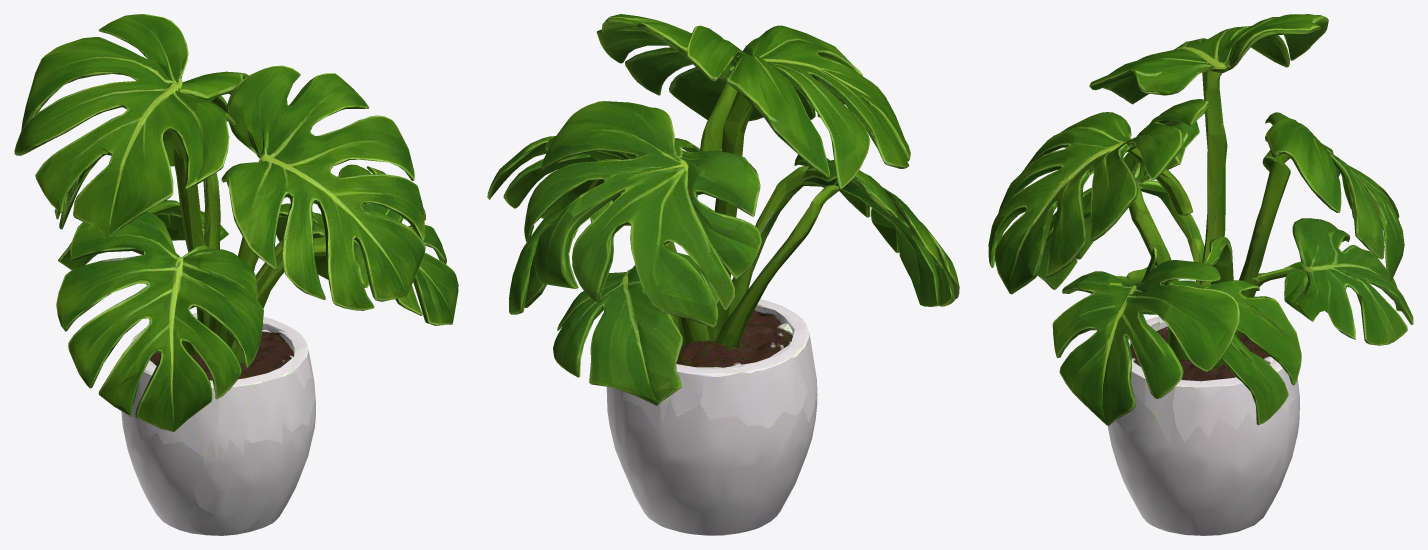
Rendered from p_home.glb.
3 renders of one model, left to right at view 1: azimuth 30°, elevation 25°; view 2: azimuth 150°, elevation 25°; view 3: azimuth 270°, elevation 25°, orthographic. The views are drawn at different scales.
Size of the model in its own units: 1.65 by 1.9 by 1.55.
Materials: 1 (1 with a texture image).
